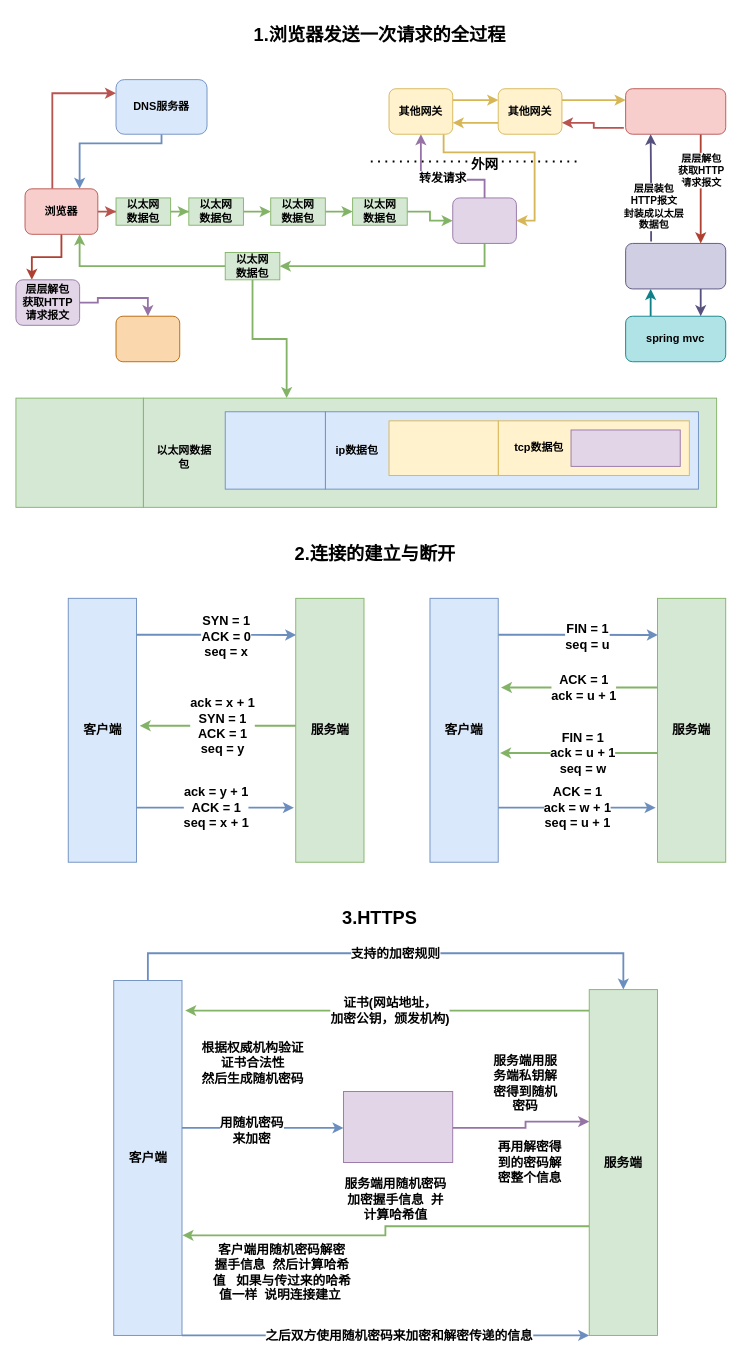
Image size: 742x1359. Some labels were removed from this diagram. The shapes that lost their labels are listed below. From the top down, each one's box as (x1, y1, x2, y2) in pixels, then its label:
(625, 88, 726, 134): 百度服务器
(452, 197, 516, 243): 网关
(625, 243, 726, 289): tomcat
(115, 315, 180, 362): 得到网页 展示在浏览器上
(15, 397, 143, 507): 以太网头 发送者的网卡mac地址 发送者的网卡mac地址
(224, 411, 325, 489): ip头 接收者的ip 发送者的ip
(388, 420, 498, 475): tcp头 接收者的端口号 发送者的端口号
(570, 429, 680, 466): HTTP请求报文
(343, 1091, 453, 1163): 信息 hash值 随机密码(服务端公钥加密)
